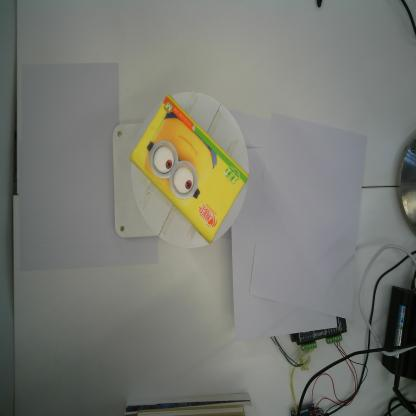Tissue: (128, 92, 250, 246)
